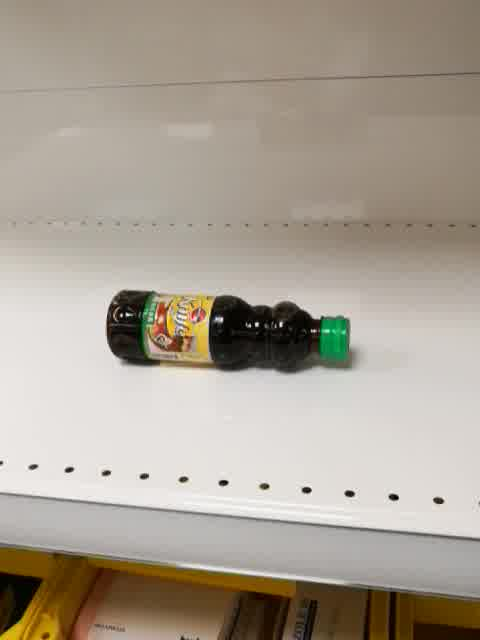cookingoil: (105, 288, 353, 377)
